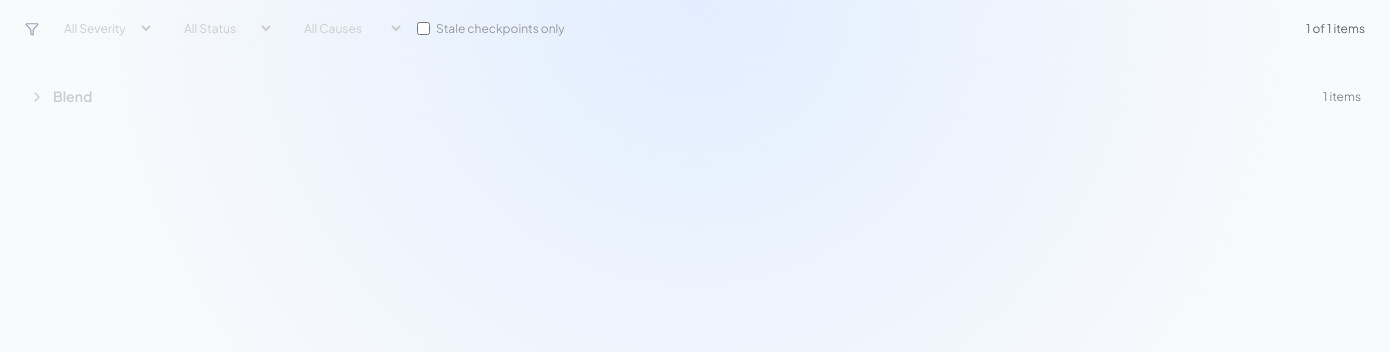
it: PortfolioReconcile › grouping › expands and collapses vault groups
Click the button "Blend 1 items" at (73, 96), box left=12, top=73, right=1378, bottom=120
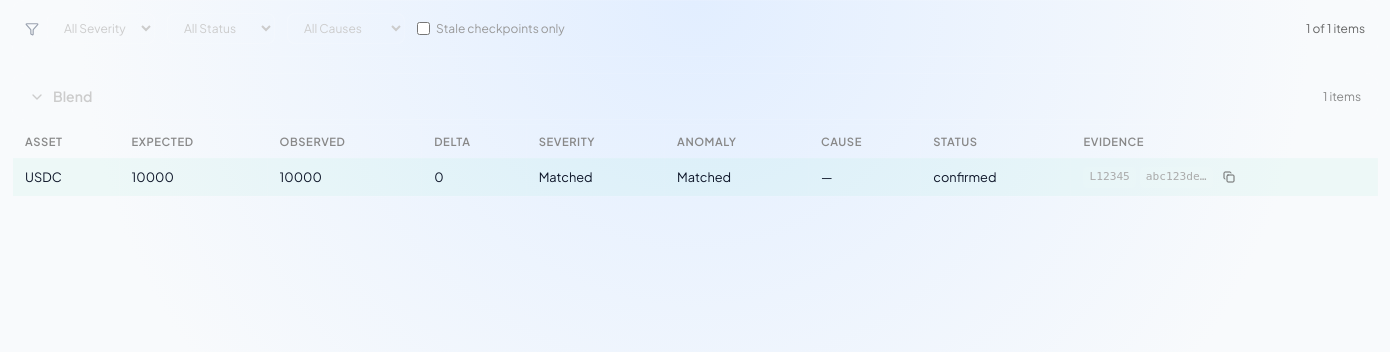
expect the text "USDC" is shown: met, box left=12, top=158, right=119, bottom=196
Click the button "Blend 1 items" at (73, 96), box left=12, top=73, right=1378, bottom=120
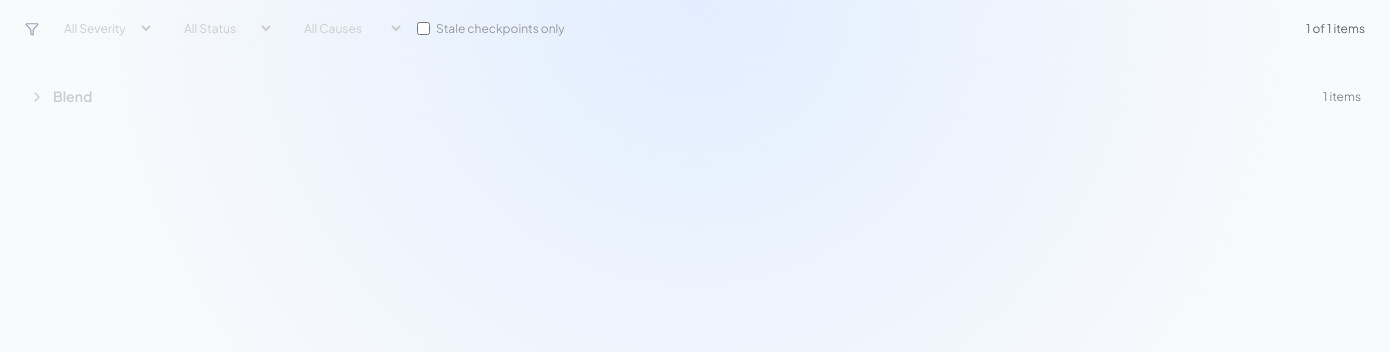
expect the text "USDC" is gone: met
